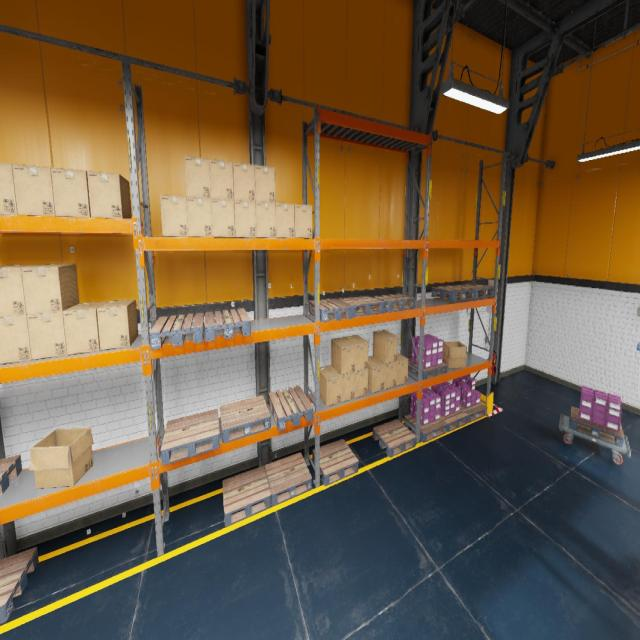box: (29, 428, 93, 488), (22, 264, 80, 314), (63, 301, 108, 355), (12, 163, 55, 216), (0, 264, 42, 316), (87, 170, 131, 218), (97, 299, 138, 350), (50, 167, 90, 217), (27, 312, 67, 359), (0, 314, 32, 364), (160, 194, 189, 237), (184, 155, 211, 198), (209, 159, 234, 200), (187, 197, 212, 237), (332, 337, 356, 375), (211, 199, 235, 237), (0, 162, 17, 214), (320, 365, 341, 407), (233, 162, 255, 201), (372, 356, 397, 390), (234, 200, 256, 238), (345, 335, 368, 371), (332, 366, 355, 402), (373, 330, 397, 364), (255, 165, 275, 202), (256, 202, 276, 238), (442, 341, 467, 368), (276, 202, 294, 238), (368, 356, 385, 393), (294, 204, 312, 238), (396, 352, 408, 386), (355, 369, 368, 398)
pallets: (160, 409, 220, 465), (222, 466, 271, 527), (0, 547, 38, 624), (264, 452, 312, 506), (220, 396, 270, 444), (570, 406, 624, 447), (312, 438, 358, 486), (268, 386, 314, 431), (149, 313, 204, 350), (372, 419, 416, 457), (204, 309, 250, 341), (404, 414, 446, 442), (308, 298, 353, 322), (338, 296, 384, 316), (0, 455, 22, 494), (408, 358, 447, 379), (374, 294, 416, 312), (432, 285, 474, 301), (440, 409, 468, 432), (453, 283, 494, 298), (460, 402, 487, 422)
